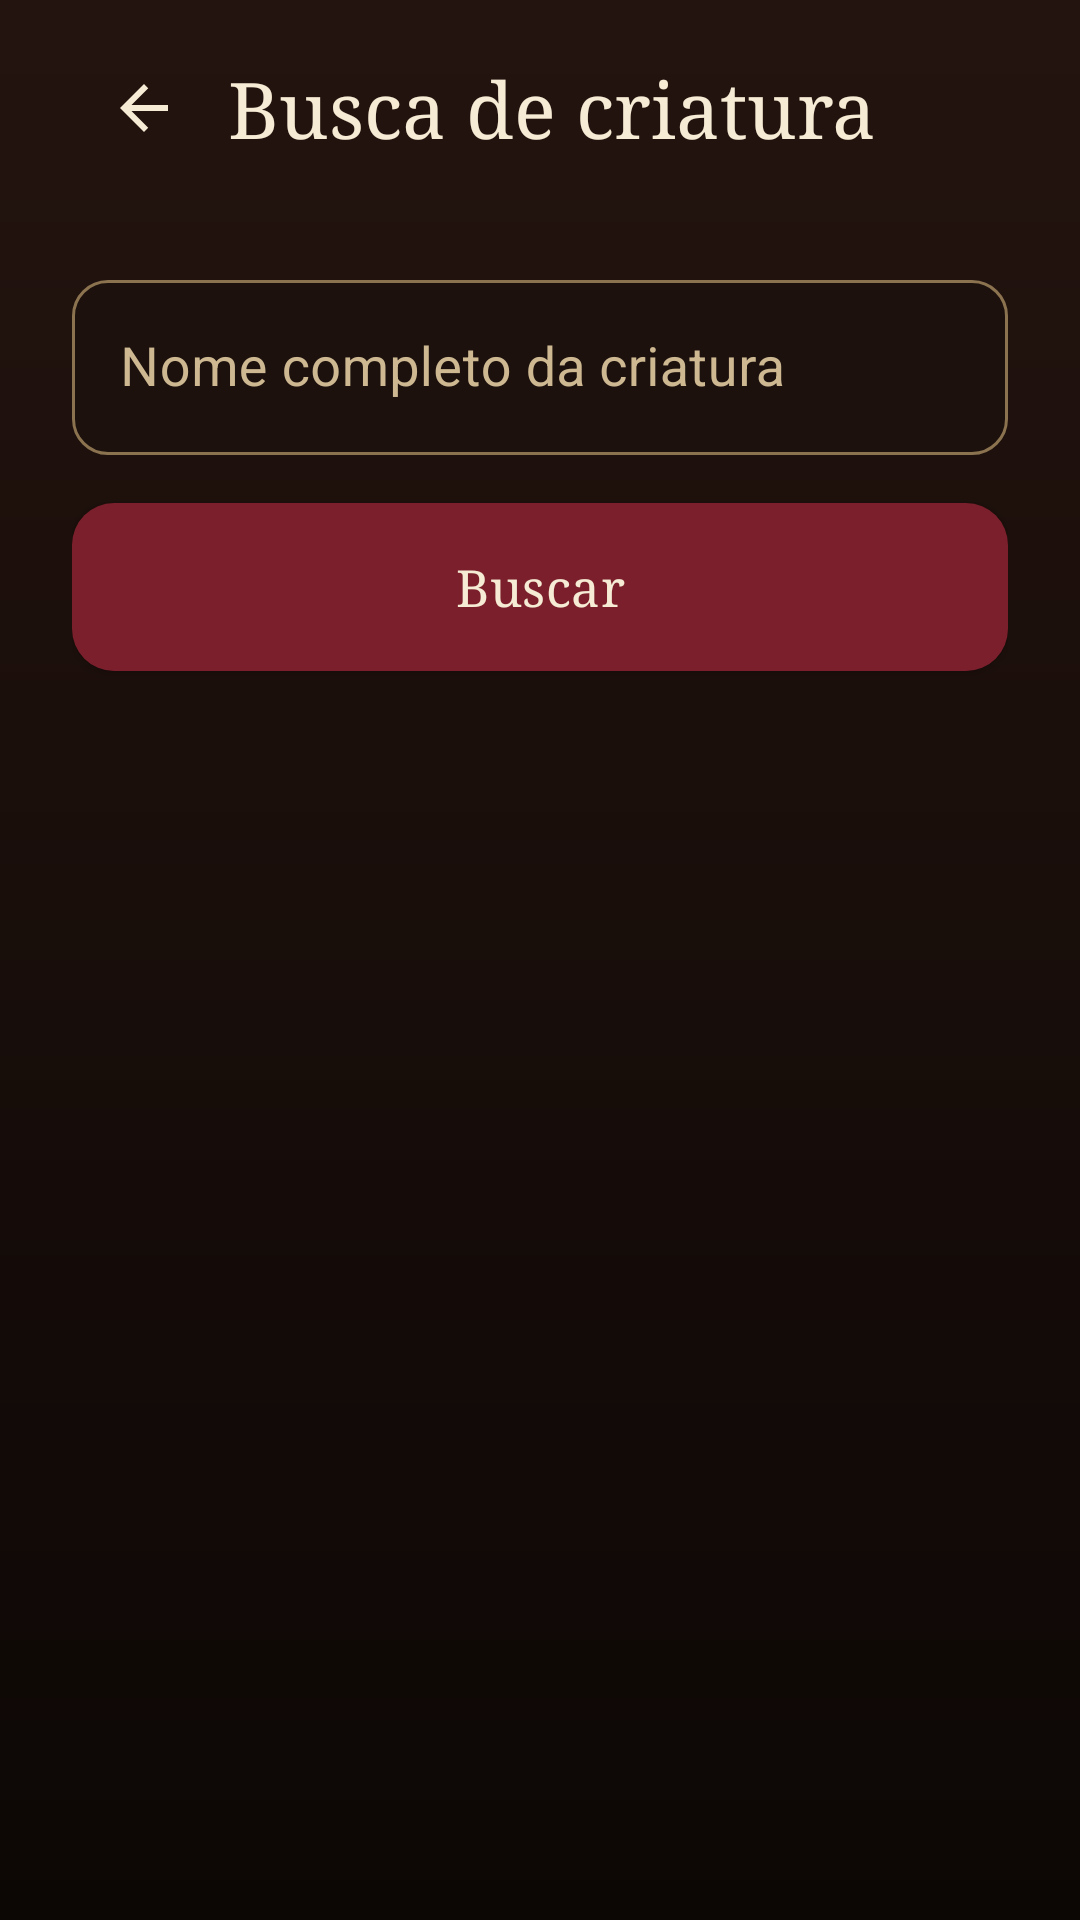

Where to tap for icons on this 1080px x 1920px app screen, as [x,y]:
Voltar: [144,108]
